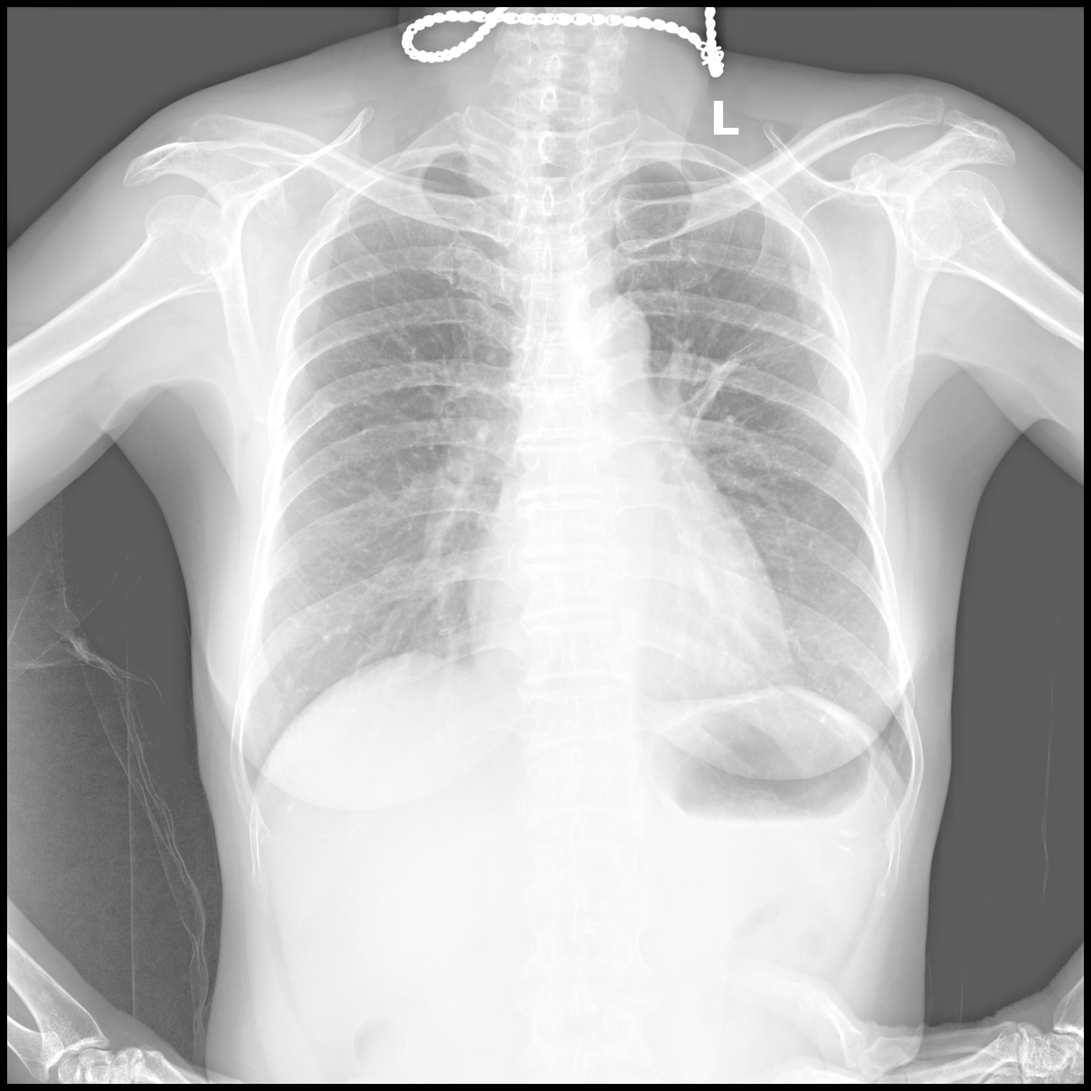Pulmonary fibrosis: (671, 292, 830, 437)
